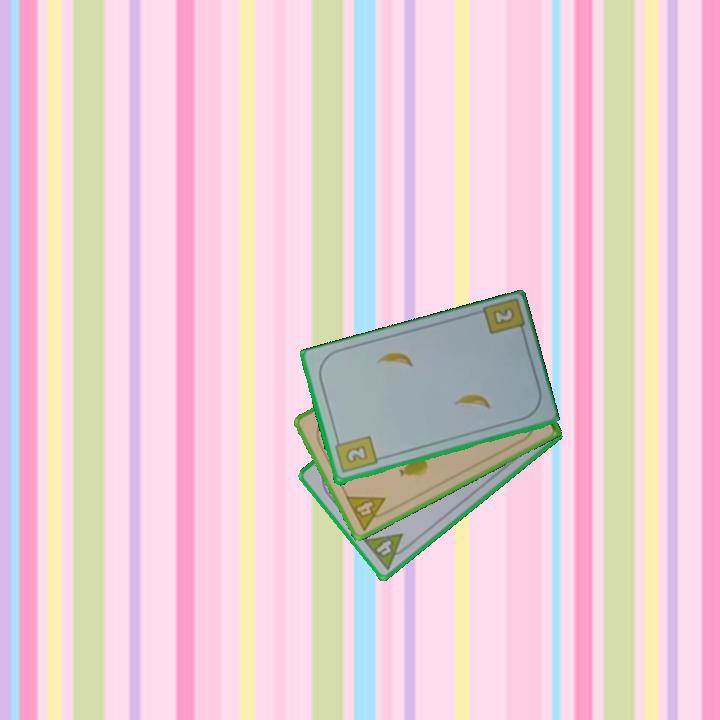2b: (478, 297, 528, 341), (331, 433, 380, 476)
4p: (360, 530, 414, 573), (342, 492, 394, 533)
